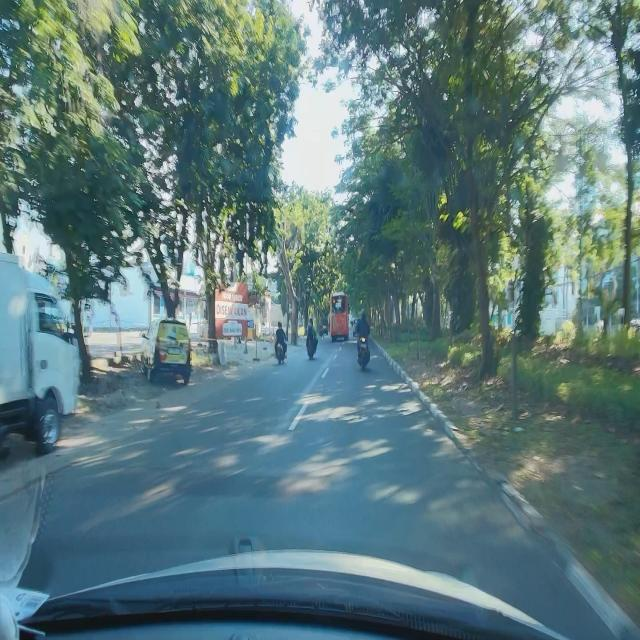bus: (330, 292, 349, 341)
